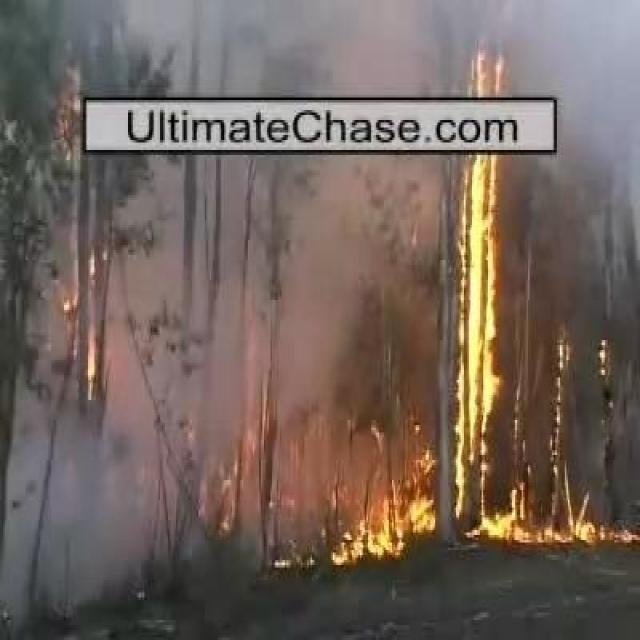Fire: (454, 156, 501, 519), (473, 486, 604, 552), (333, 495, 435, 563)
